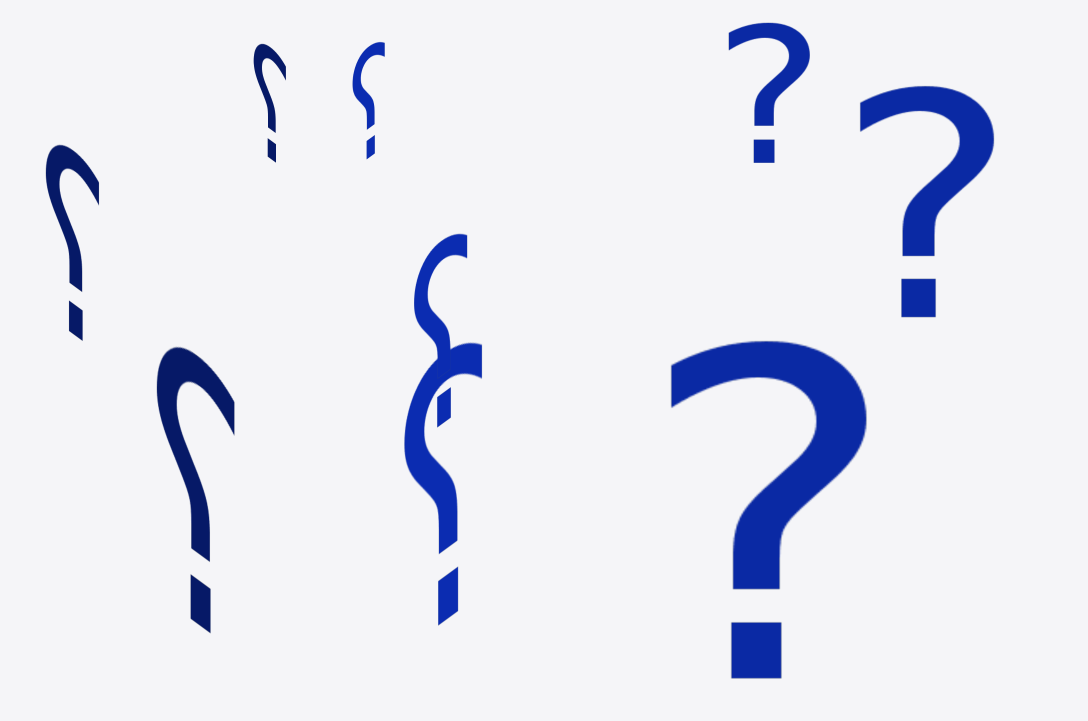
The model's file is curious.glb.
3 views of the same model, side by side, from view 1: azimuth 30°, elevation 25°; view 2: azimuth 150°, elevation 25°; view 3: azimuth 270°, elevation 25° (orthographic). The views are drawn at different scales.
Parts seen in each view (by area): view 1: curious.png__; view 2: curious.png__; view 3: curious.png__.
Boxes of the visible parts, left/top/right/bottom form: curious.png__: left=46, top=44, right=285, bottom=632; curious.png__: left=352, top=42, right=481, bottom=625; curious.png__: left=671, top=22, right=993, bottom=678.
Bounding box in the file's own units: 1.62 × 6.73 × 4.28.
1 material, 1 textured.
